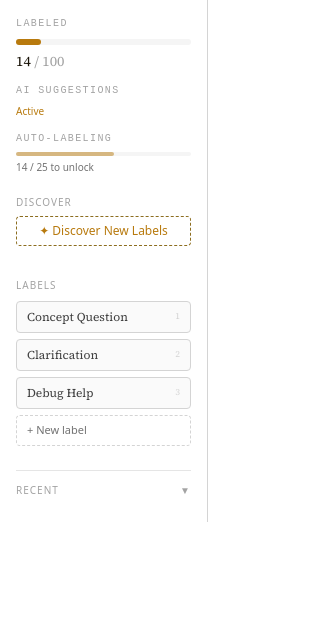
Test case: skipped items show "Skipped" text instead of labels
Click the text "Recent" at (37, 490), box [16,482,59,498]
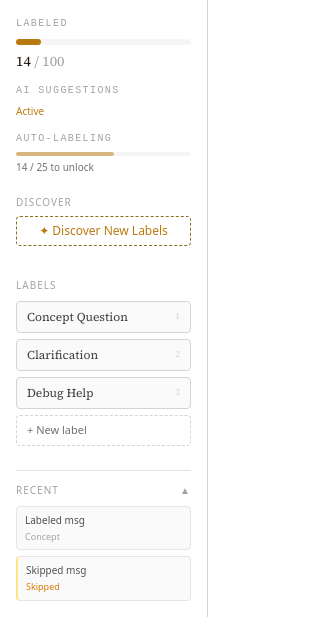
expect the text "Skipped" is shown: met, box [26,580,60,593]
